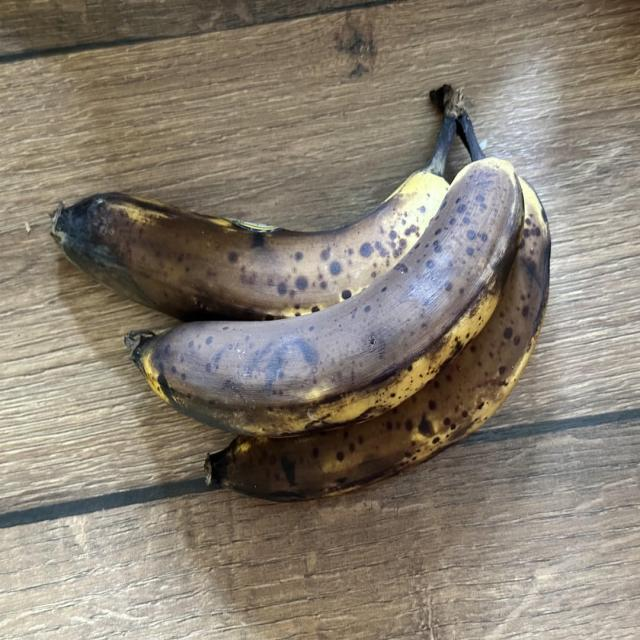banana_peel: (29, 67, 561, 515)
